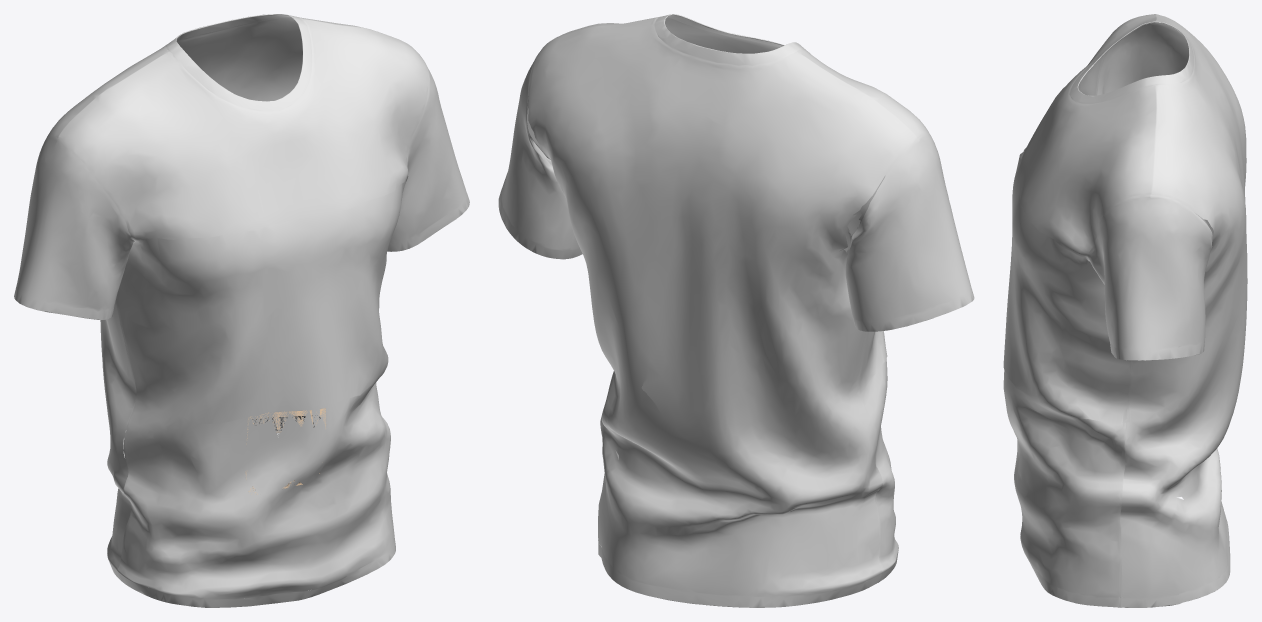
3 views of the same model, side by side, from view 1: azimuth 30°, elevation 25°; view 2: azimuth 150°, elevation 25°; view 3: azimuth 270°, elevation 25° (orthographic). The views are drawn at different scales.
Bounding box in the file's own units: 0.5502 × 0.613 × 0.2681.
Materials: 7 (1 with a texture image).
